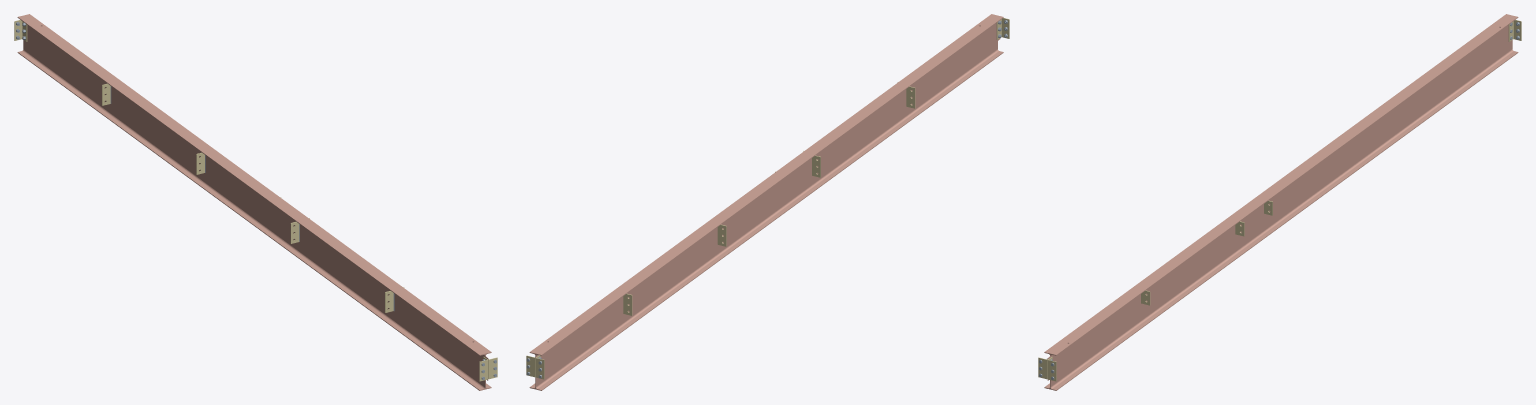
3 views of the same model, side by side, from view 1: azimuth 30°, elevation 25°; view 2: azimuth 150°, elevation 25°; view 3: azimuth 330°, elevation 25° (orthographic).
Parts seen in each view (by area): view 1: product-35974702-2a41-402e-a5f3-135ebb07e159-body; view 2: product-35974702-2a41-402e-a5f3-135ebb07e159-body; view 3: product-35974702-2a41-402e-a5f3-135ebb07e159-body.
Part boxes in pixels (box(x1,y1,x2,y2)): product-35974702-2a41-402e-a5f3-135ebb07e159-body: box(17, 14, 491, 390); product-35974702-2a41-402e-a5f3-135ebb07e159-body: box(529, 14, 1003, 390); product-35974702-2a41-402e-a5f3-135ebb07e159-body: box(1044, 14, 1518, 390).
Size of the model in its own units: 0.2095 by 0.3988 by 9.41.
